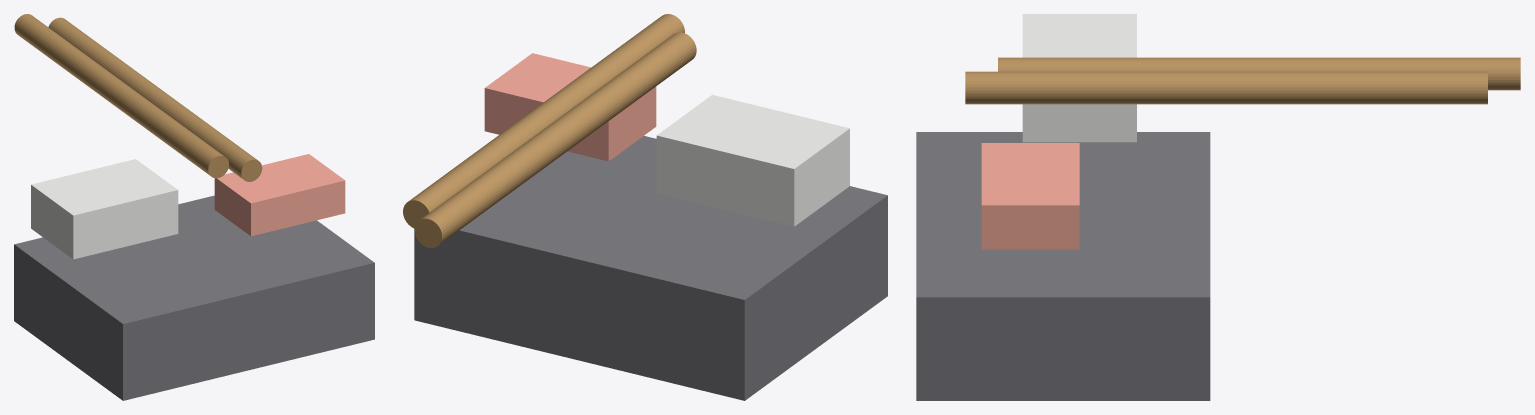
Rendered from pickup.bento.v1.glb.
3 views of the same model, side by side, from view 1: azimuth 30°, elevation 25°; view 2: azimuth 150°, elevation 25°; view 3: azimuth 270°, elevation 25° (orthographic). The views are drawn at different scales.
Parts seen in each view (by area): view 1: pickup.bento.v1_tray, pickup.bento.v1_rice, pickup.bento.v1_salmon, pickup.bento.v1_chop_l, pickup.bento.v1_chop_r; view 2: pickup.bento.v1_tray, pickup.bento.v1_rice, pickup.bento.v1_chop_l, pickup.bento.v1_chop_r, pickup.bento.v1_salmon; view 3: pickup.bento.v1_tray, pickup.bento.v1_chop_r, pickup.bento.v1_salmon, pickup.bento.v1_rice, pickup.bento.v1_chop_l.
Boxes of the visible parts, bbox=[...] form: pickup.bento.v1_tray: bbox=[14, 195, 374, 400]; pickup.bento.v1_rice: bbox=[31, 159, 178, 259]; pickup.bento.v1_salmon: bbox=[214, 154, 345, 236]; pickup.bento.v1_chop_l: bbox=[14, 14, 228, 178]; pickup.bento.v1_chop_r: bbox=[48, 17, 262, 181]; pickup.bento.v1_tray: bbox=[414, 136, 887, 400]; pickup.bento.v1_rice: bbox=[656, 95, 849, 226]; pickup.bento.v1_chop_l: bbox=[414, 32, 696, 247]; pickup.bento.v1_chop_r: bbox=[403, 14, 684, 228]; pickup.bento.v1_salmon: bbox=[484, 53, 656, 161]; pickup.bento.v1_tray: bbox=[916, 132, 1210, 400]; pickup.bento.v1_chop_r: bbox=[965, 71, 1487, 104]; pickup.bento.v1_salmon: bbox=[981, 143, 1079, 249]; pickup.bento.v1_rice: bbox=[1022, 14, 1136, 142]; pickup.bento.v1_chop_l: bbox=[998, 57, 1520, 90].
Size of the model in its own units: 0.25 by 0.175 by 0.37.
